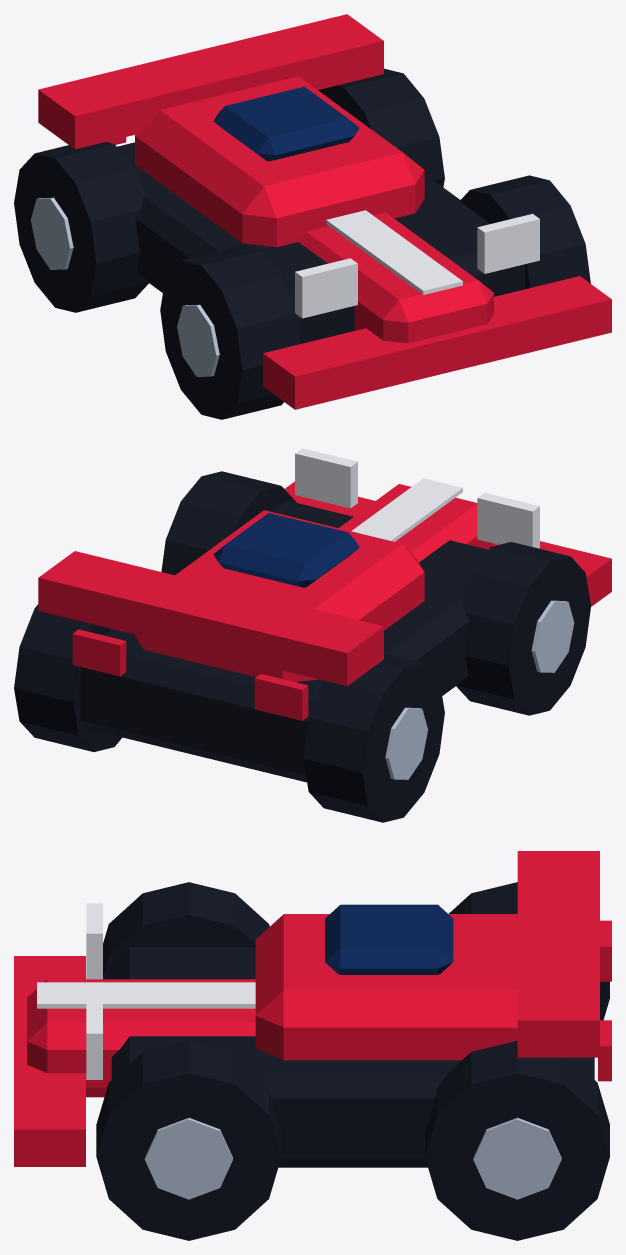
The model's file is racecar.glb.
3 views of the same model, one above another, from view 1: azimuth 30°, elevation 25°; view 2: azimuth 150°, elevation 25°; view 3: azimuth 270°, elevation 25° (orthographic). The views are drawn at different scales.
Visible parts, largest first — view 1: Chassis, WheelRearL, WheelFrontL, WheelFrontR, WheelRearR; view 2: Chassis, WheelFrontL, WheelRearL, WheelRearR, WheelFrontR; view 3: Chassis, WheelFrontR, WheelRearR, WheelFrontL, WheelRearL.
Part boxes in pixels (x1,y1,x2,y2): Chassis: (38,14,611,409); WheelRearL: (14,142,148,312); WheelFrontL: (160,246,300,419); WheelFrontR: (459,175,590,289); WheelRearR: (318,68,444,186); Chassis: (38,448,611,782); WheelFrontL: (456,542,590,715); WheelRearL: (303,653,444,822); WheelRearR: (14,604,122,751); WheelFrontR: (161,471,296,575); Chassis: (14,851,611,1167); WheelFrontR: (96,1040,281,1240); WheelRearR: (425,1040,609,1240); WheelFrontL: (103,882,269,979); WheelRearL: (449,882,609,1020).
Size of the model in its own units: 0.904 by 0.47 by 1.16.
